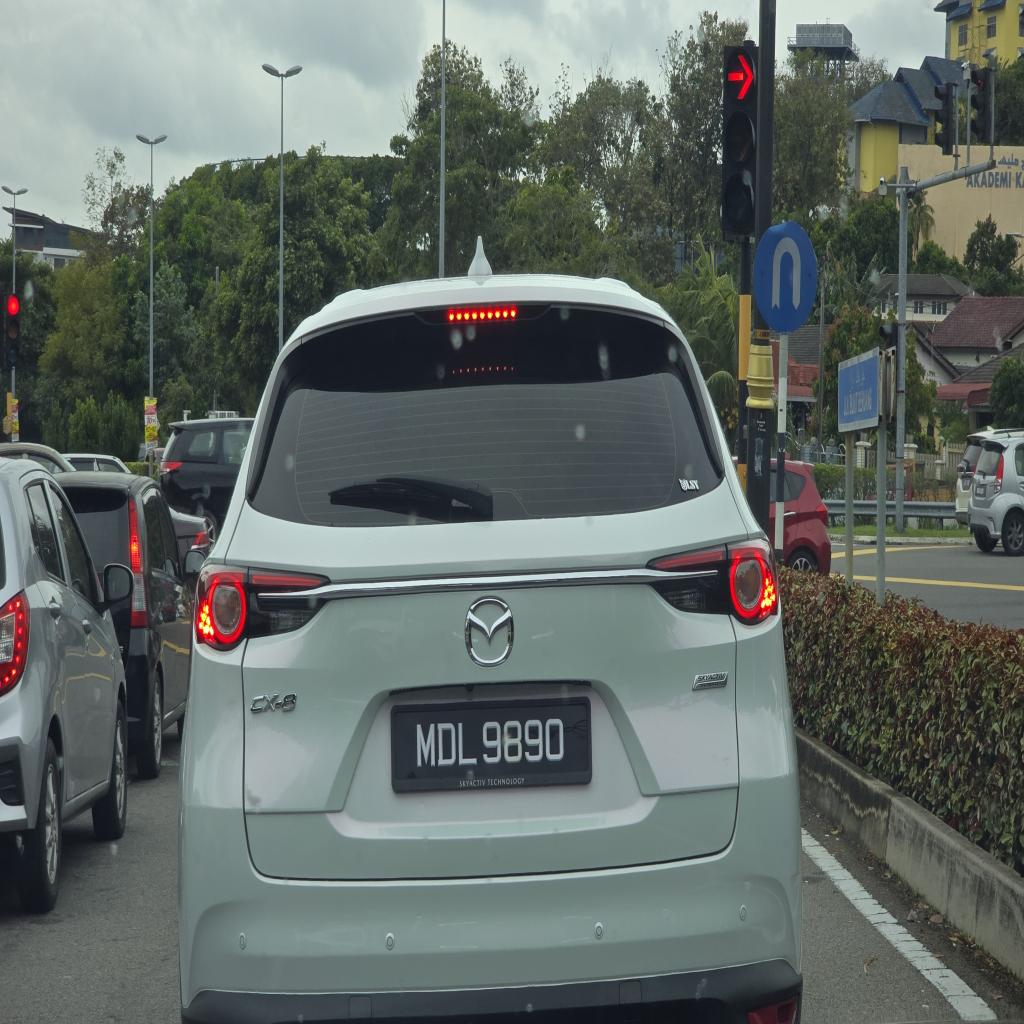car: (179, 276, 801, 1023)
car plate: (392, 698, 591, 791)
